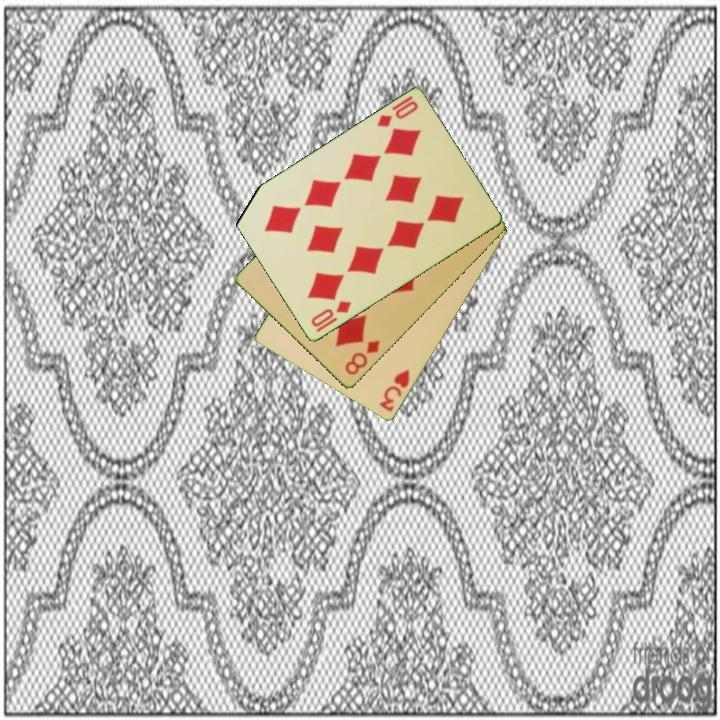10d: (373, 92, 421, 131), (307, 297, 354, 330)
3h: (375, 365, 413, 415)
8d: (341, 337, 383, 378)
